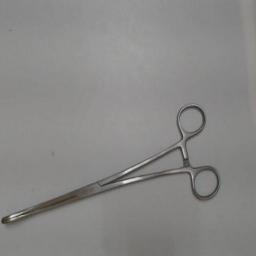Sponge Forceps: (0, 100, 224, 230)
